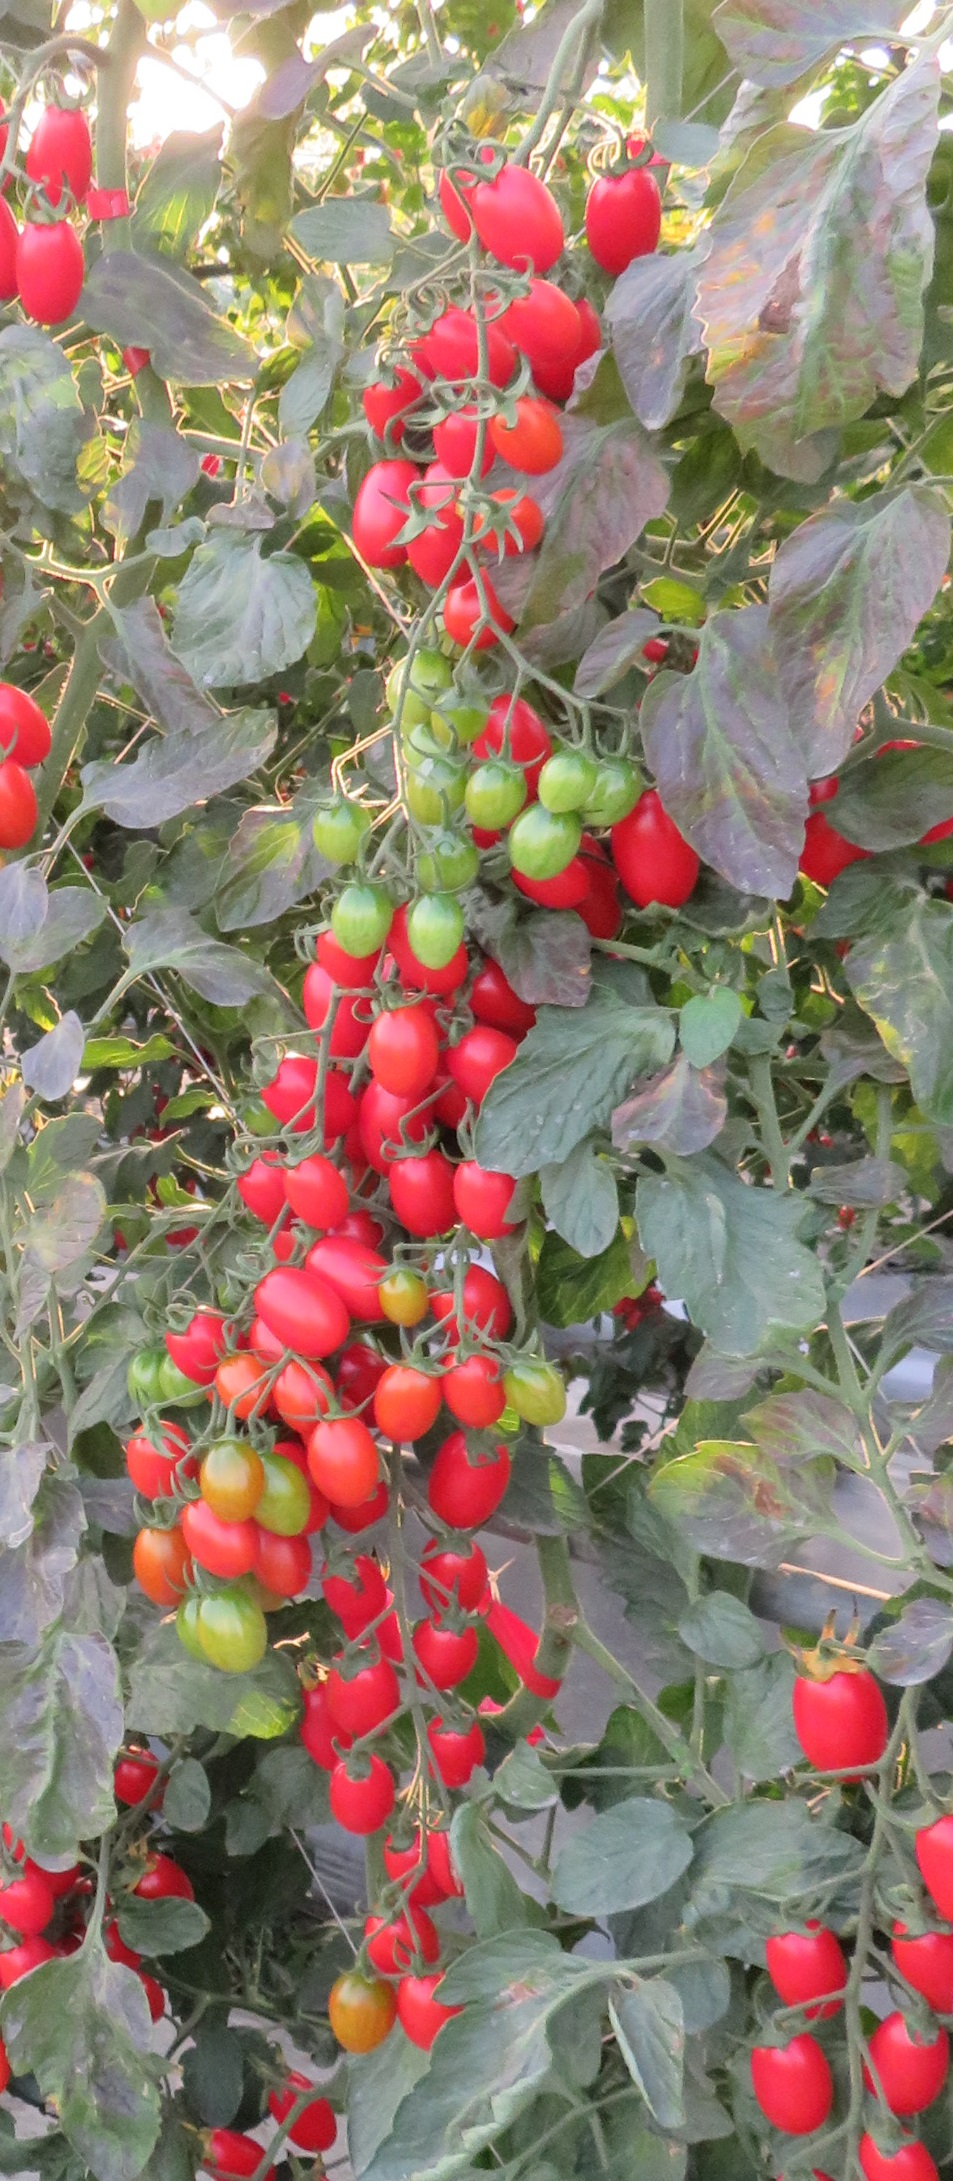green: (614, 803, 690, 915), (193, 1591, 275, 1673), (508, 810, 577, 889), (501, 1360, 577, 1431), (408, 889, 474, 969), (584, 753, 646, 830), (333, 878, 390, 957), (536, 746, 594, 816), (317, 798, 376, 869), (263, 1454, 312, 1538), (465, 761, 524, 828)
orange: (195, 1440, 267, 1536), (307, 1410, 371, 1506), (122, 1417, 191, 1501), (328, 1972, 390, 2059), (488, 399, 562, 467), (376, 1358, 434, 1442), (125, 1522, 184, 1605), (474, 490, 550, 554), (440, 1353, 504, 1427), (213, 1349, 274, 1415), (376, 1271, 434, 1331)
red: (794, 1655, 892, 1780), (470, 160, 568, 271), (744, 2020, 831, 2141), (255, 1264, 356, 1358), (579, 160, 666, 266), (860, 2010, 945, 2118), (13, 207, 88, 330), (352, 458, 427, 572), (762, 1920, 843, 2022), (256, 1056, 365, 1131), (365, 1004, 447, 1103), (429, 1433, 508, 1531), (159, 1299, 243, 1388), (24, 96, 89, 211), (424, 305, 513, 387), (264, 2066, 339, 2160), (488, 277, 582, 351), (454, 1156, 531, 1244), (319, 1550, 388, 1647), (444, 1017, 522, 1103), (888, 1913, 953, 2013), (387, 1159, 461, 1239), (399, 1965, 463, 2052), (331, 1648, 391, 1740), (328, 1755, 392, 1837), (280, 1154, 355, 1224), (3, 675, 53, 776), (429, 1544, 487, 1627), (910, 1812, 953, 1920), (193, 2124, 274, 2181), (420, 1613, 474, 1693), (1, 753, 45, 847), (429, 1714, 477, 1787)
